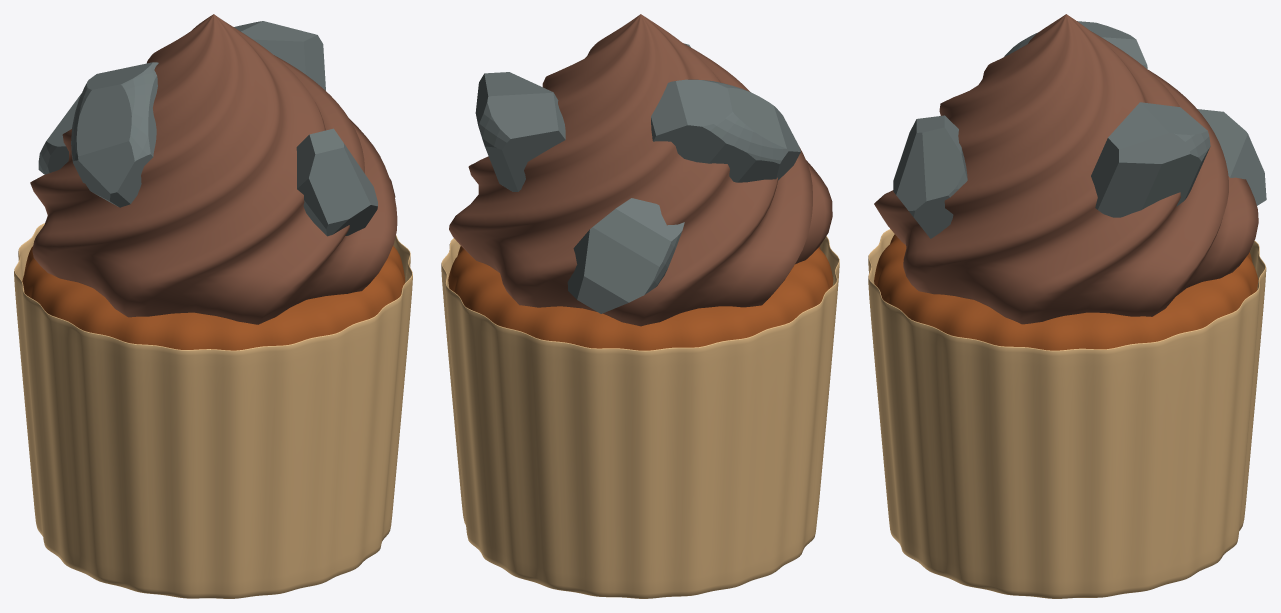
Rendered from cupcake_rock.fbx.
3 views of the same model, side by side, from view 1: azimuth 30°, elevation 25°; view 2: azimuth 150°, elevation 25°; view 3: azimuth 270°, elevation 25° (orthographic).
Visible parts, largest first — view 1: Cake.003; view 2: Cake.003; view 3: Cake.003.
Part boxes in pixels (bbox=[...]): Cake.003: bbox=[14, 14, 412, 598]; Cake.003: bbox=[441, 14, 839, 598]; Cake.003: bbox=[868, 14, 1266, 598].
Bounding box in the file's own units: 225 × 319 × 225.
